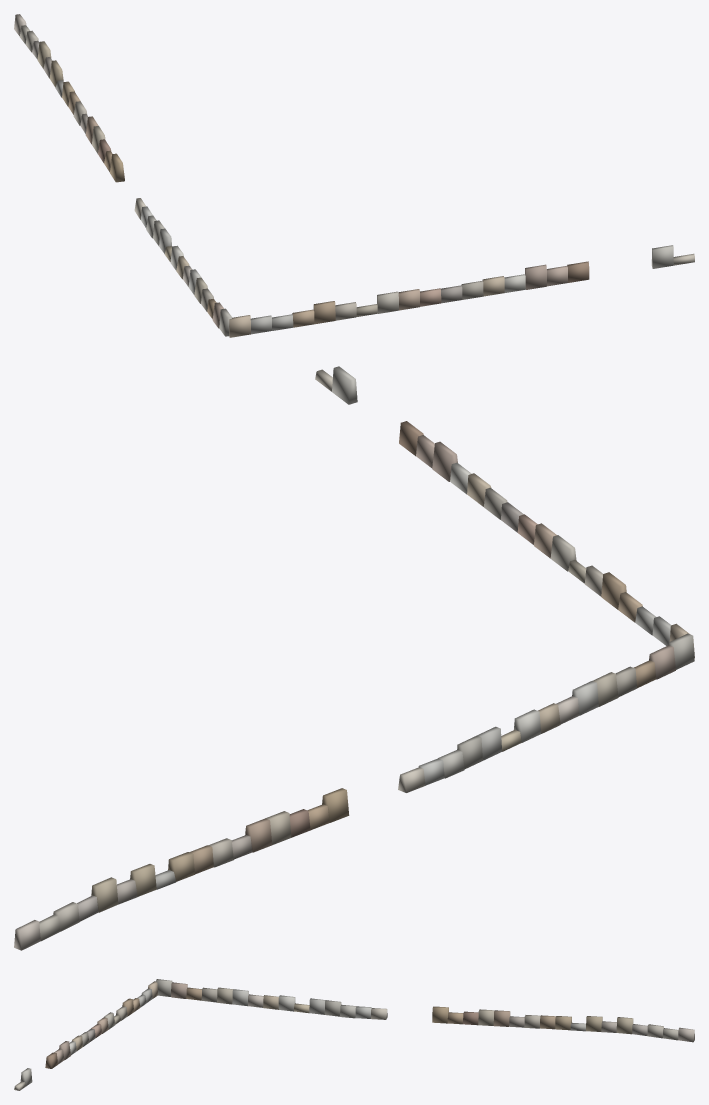
File: farm_-57_-42_collision.glb
3 renders of one model, top to bottom at view 1: azimuth 30°, elevation 25°; view 2: azimuth 150°, elevation 25°; view 3: azimuth 270°, elevation 25°, orthographic. The views are drawn at different scales.
Parts seen in each view (by area): view 1: geometry_0; view 2: geometry_0; view 3: geometry_0.
Boxes of the visible parts, x1=… form: geometry_0: x1=14, y1=14, x2=694, y2=337; geometry_0: x1=14, y1=366, x2=694, y2=950; geometry_0: x1=14, y1=979, x2=694, y2=1090.
Bounding box in the file's own units: 32.23 × 5.91 × 67.25.
